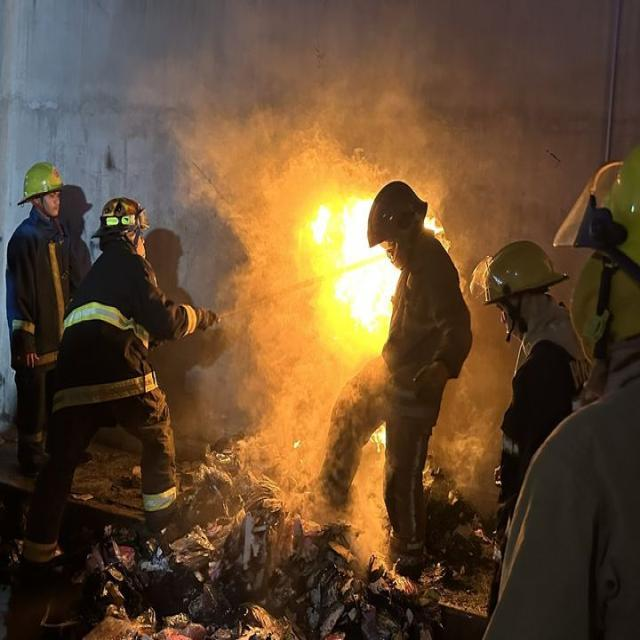Fire: (314, 198, 402, 334)
